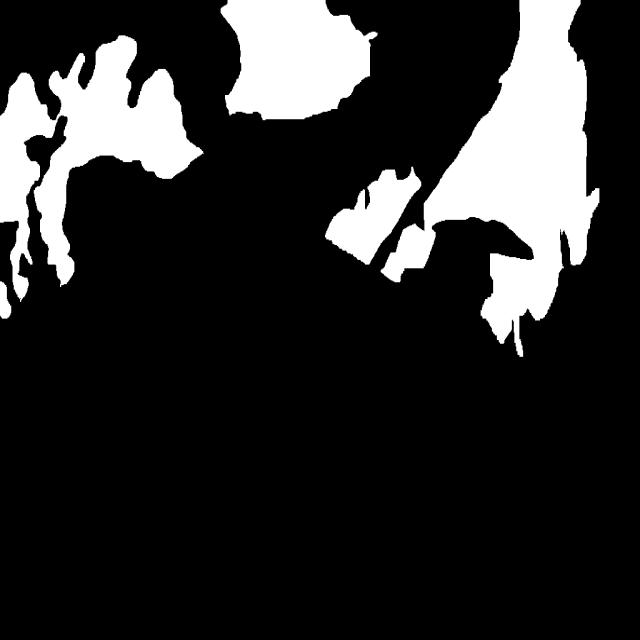fire: (409, 8, 619, 413), (2, 19, 212, 318), (204, 0, 397, 191)
